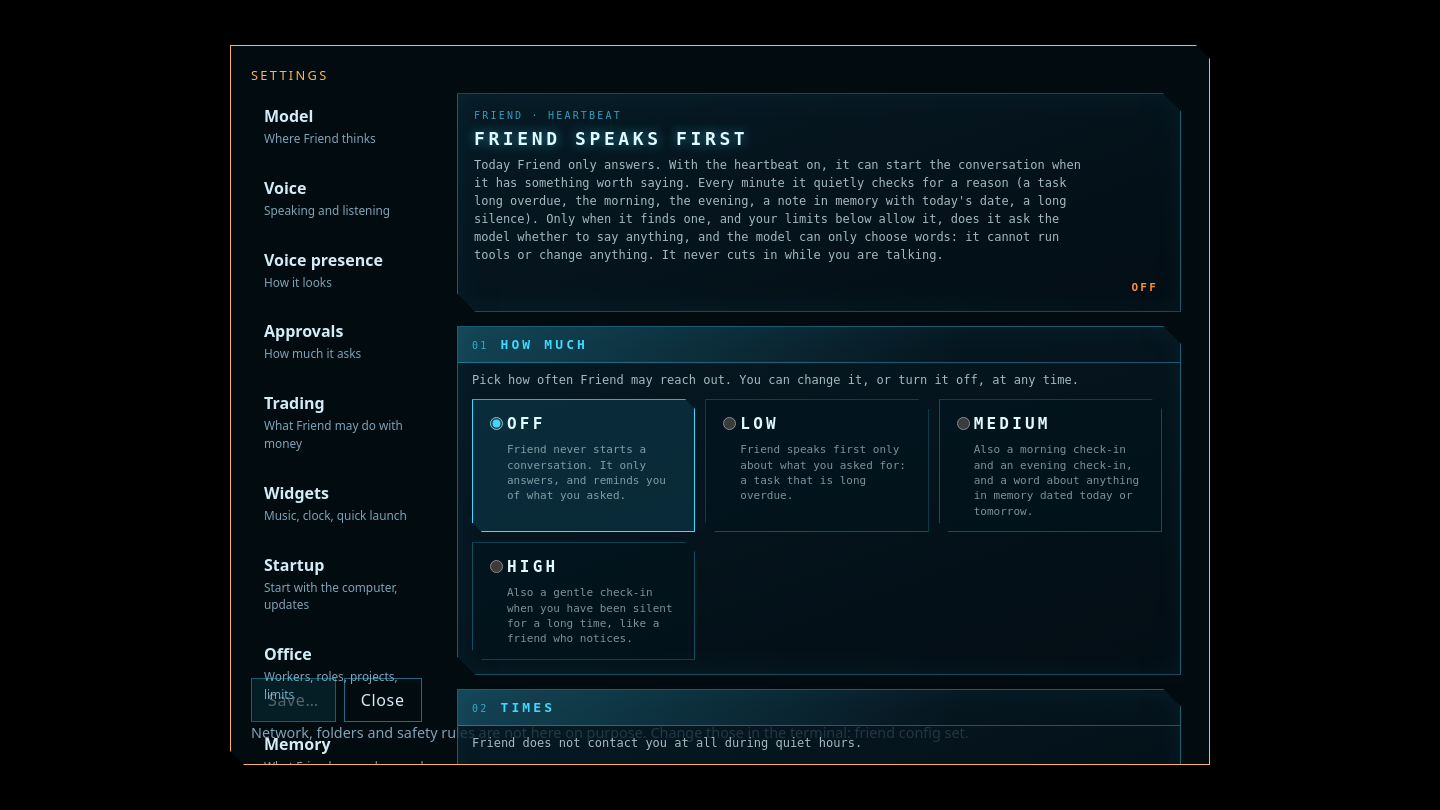
Scenario: saving heartbeat settings › sends only what changed, and asks for the PIN
Step 1. Click the radio button labelled "Medium" → (963, 424), box 957,417 -> 970,430
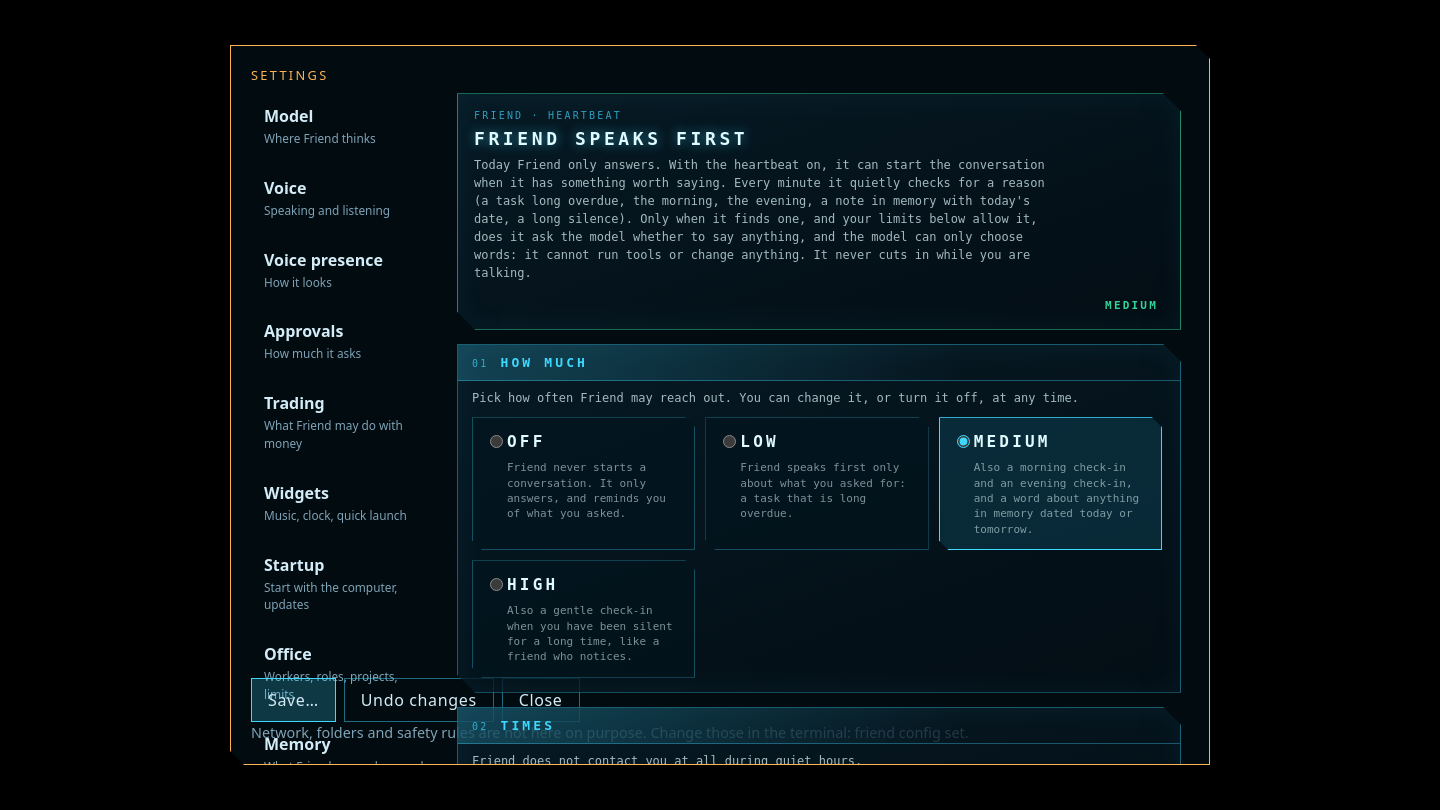
Step 2. Click the button "Save…" → (293, 700), box 251,678 -> 336,722
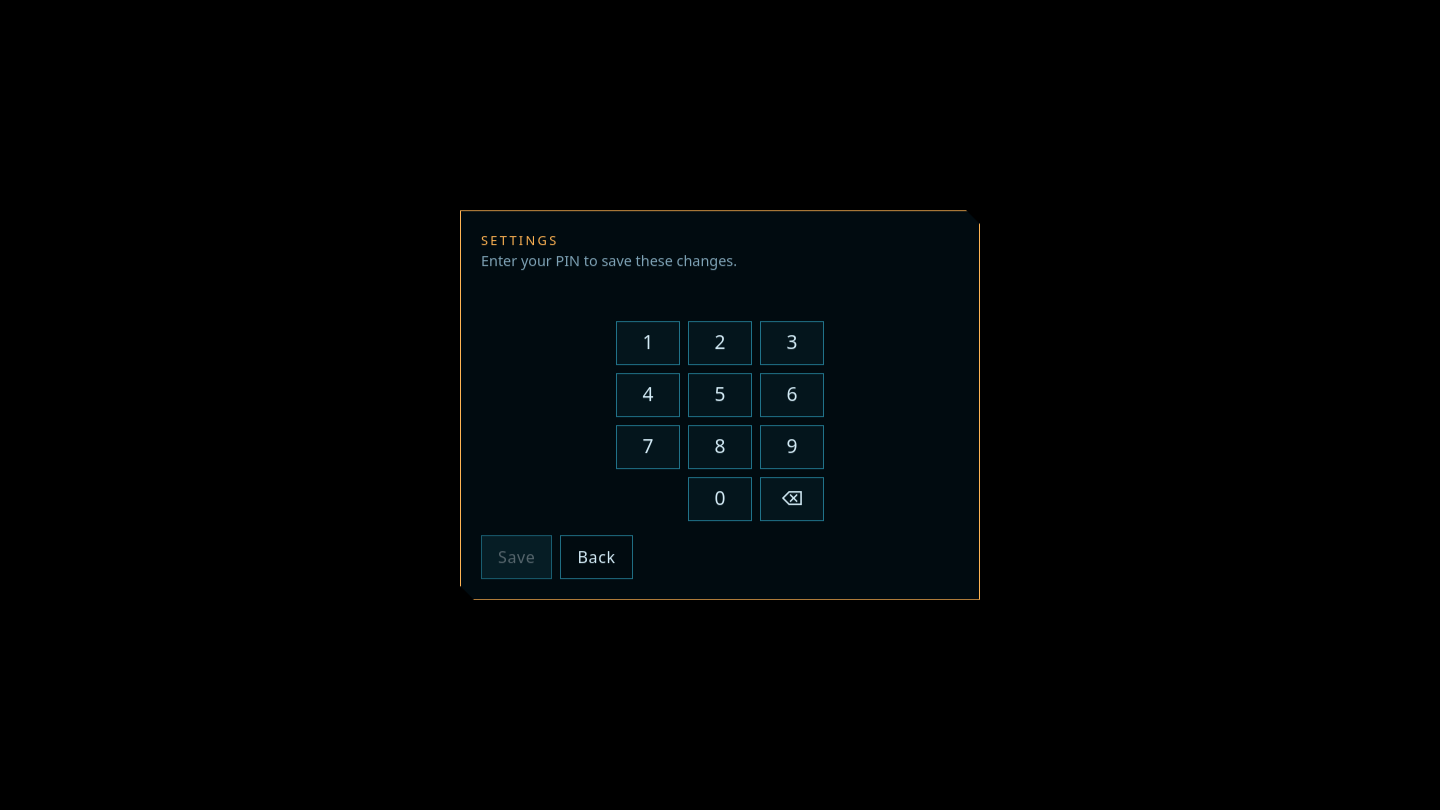
Result: the text "Enter your PIN to save these changes." is shown at 481,251 -> 737,270
